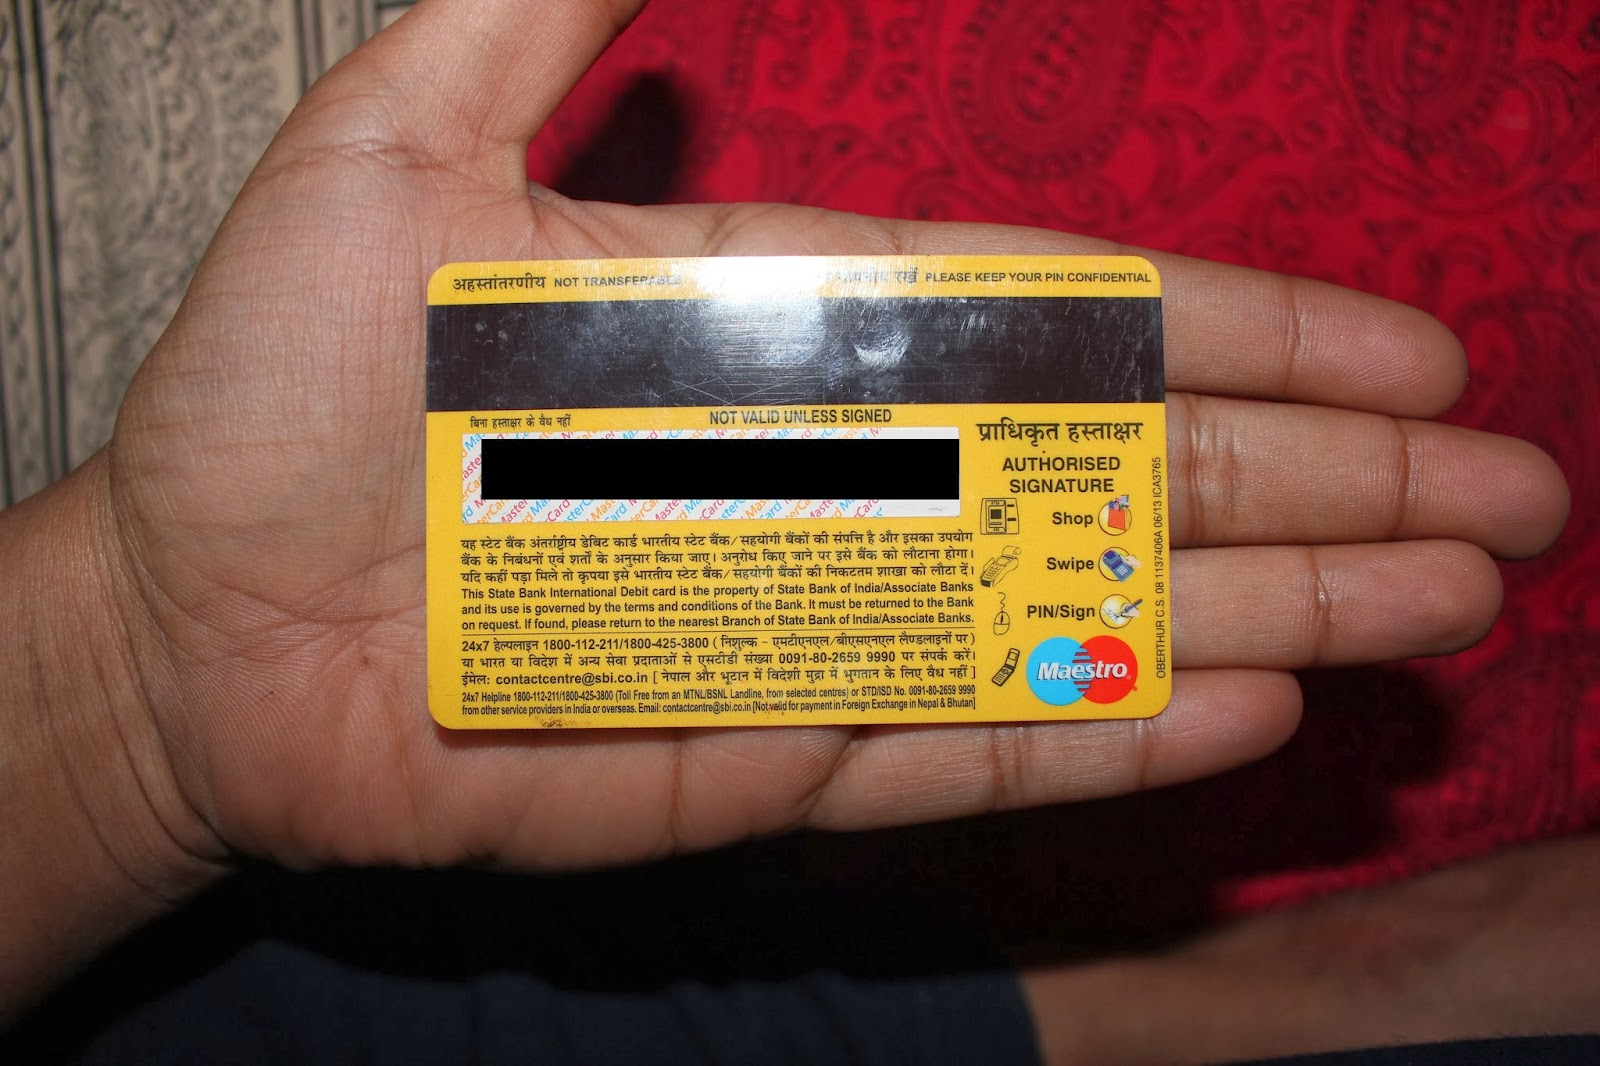tarjeta: (421, 251, 1177, 734)
